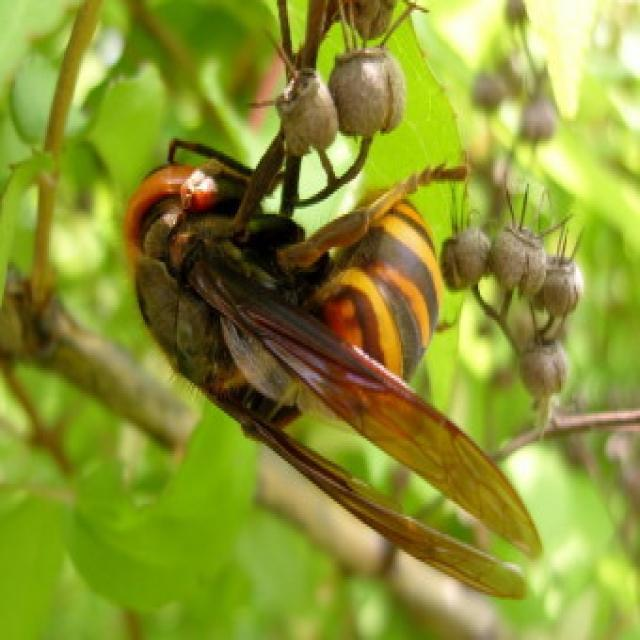Wasp: (113, 137, 544, 599)
